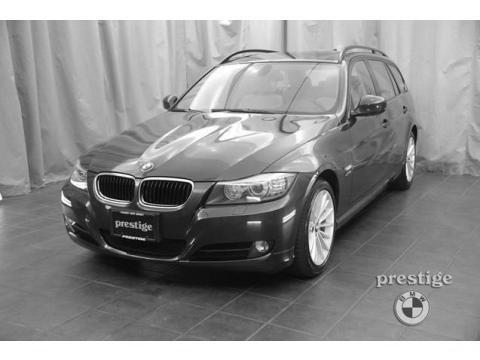car: (62, 46, 420, 280)
